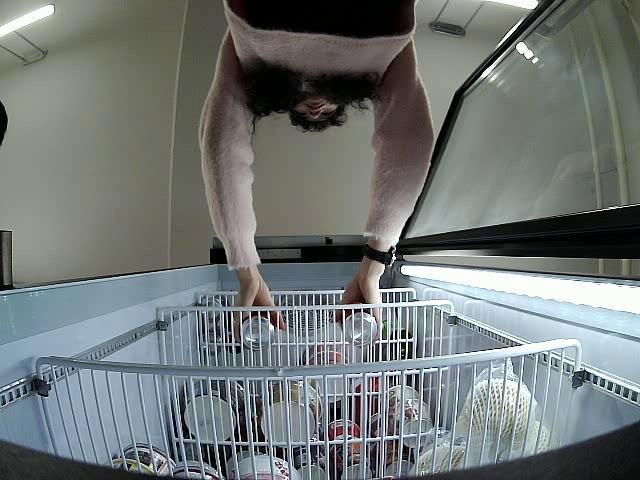00_hand: (332, 267, 384, 346), (234, 273, 286, 333)
11_cocaColaZero: (238, 311, 279, 349), (341, 309, 379, 346)
